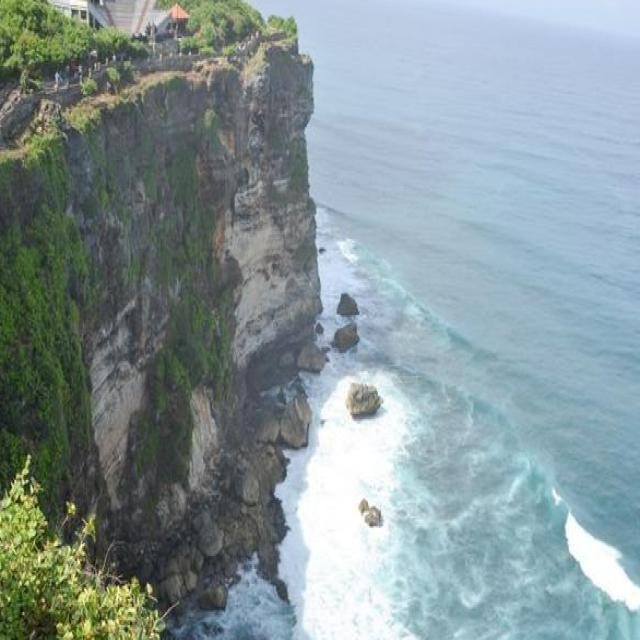reef: (318, 276, 388, 428)
